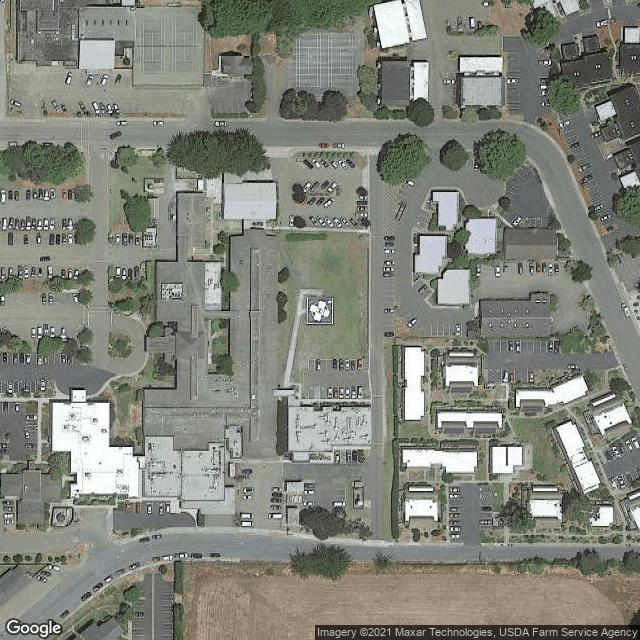Helipad: (302, 294, 336, 326)
